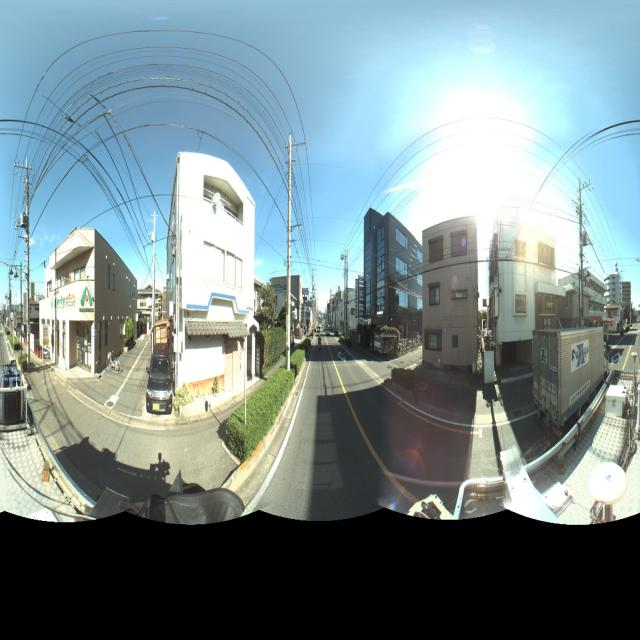b_1: (171, 146, 250, 410), (32, 211, 148, 378), (424, 208, 481, 382), (492, 211, 562, 351), (362, 204, 424, 338), (258, 264, 317, 335), (566, 258, 612, 342), (331, 277, 367, 345), (602, 264, 622, 330), (618, 270, 632, 334)
